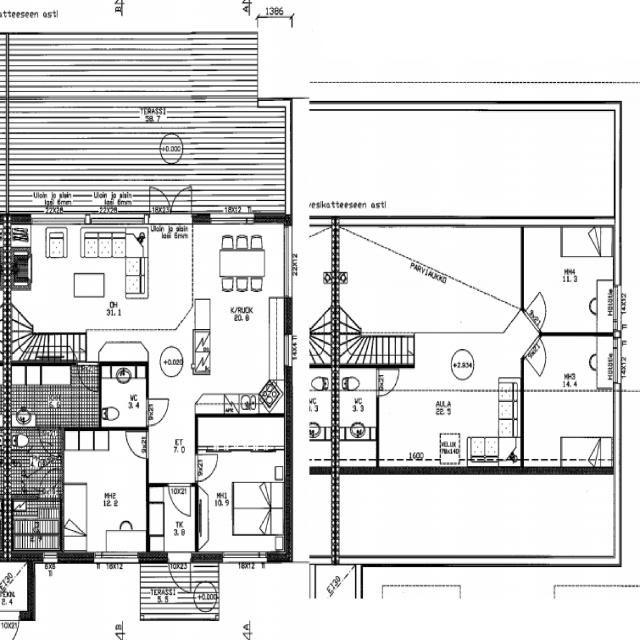door: (166, 555, 194, 595), (168, 481, 194, 518), (192, 584, 218, 618), (195, 447, 220, 482), (145, 396, 171, 427), (170, 183, 194, 216), (124, 428, 148, 460), (147, 184, 170, 215), (527, 341, 547, 374), (378, 366, 401, 394)
window: (280, 223, 295, 301), (92, 548, 142, 567), (221, 547, 270, 566), (208, 212, 254, 227), (611, 334, 623, 384), (611, 280, 622, 330), (282, 330, 294, 368), (40, 549, 60, 562)
zone: (338, 221, 519, 334), (9, 222, 147, 362), (378, 336, 520, 465), (193, 221, 286, 415), (197, 416, 287, 553), (522, 331, 612, 466), (62, 428, 148, 553), (521, 224, 615, 333), (6, 362, 102, 428), (6, 424, 64, 497), (340, 366, 378, 467), (148, 486, 196, 557), (100, 362, 148, 429), (8, 491, 62, 549)
